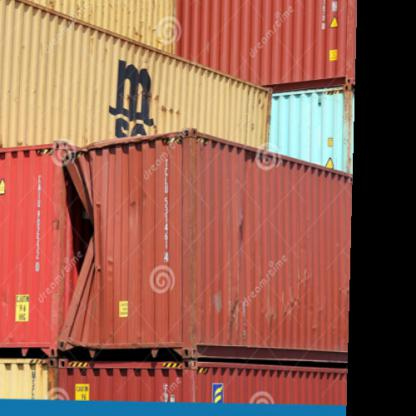Damage: (50, 162, 111, 292)
